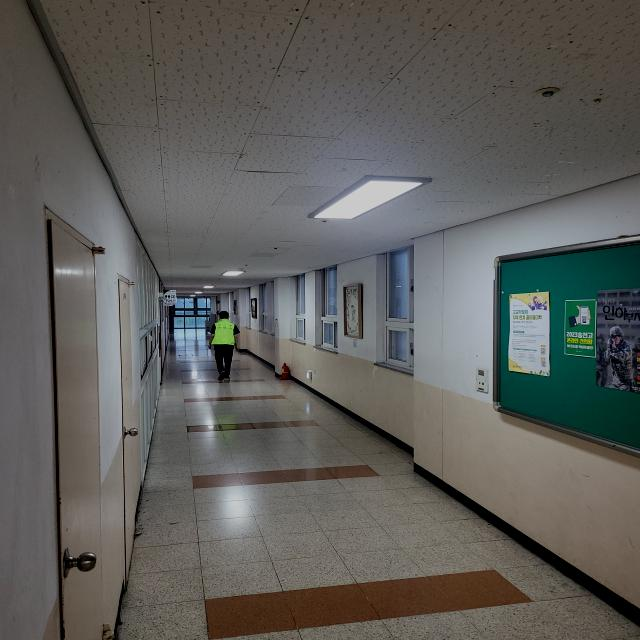weston_spy: (208, 317, 242, 353)
